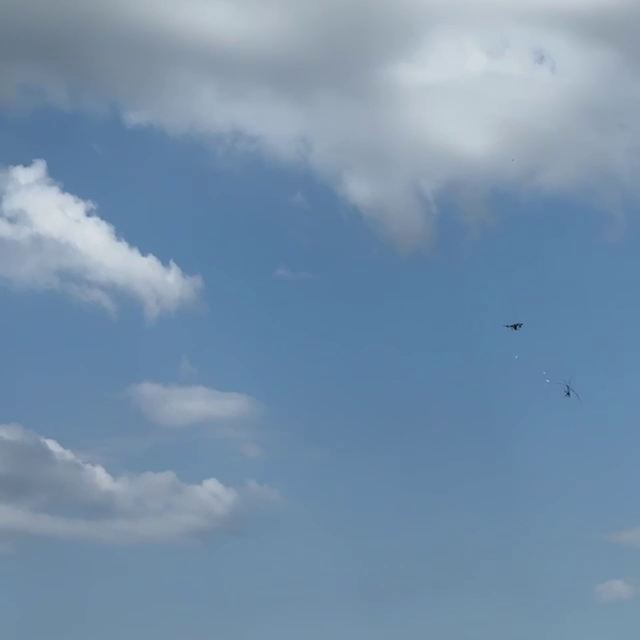drone: (499, 319, 526, 332), (560, 380, 574, 400)
